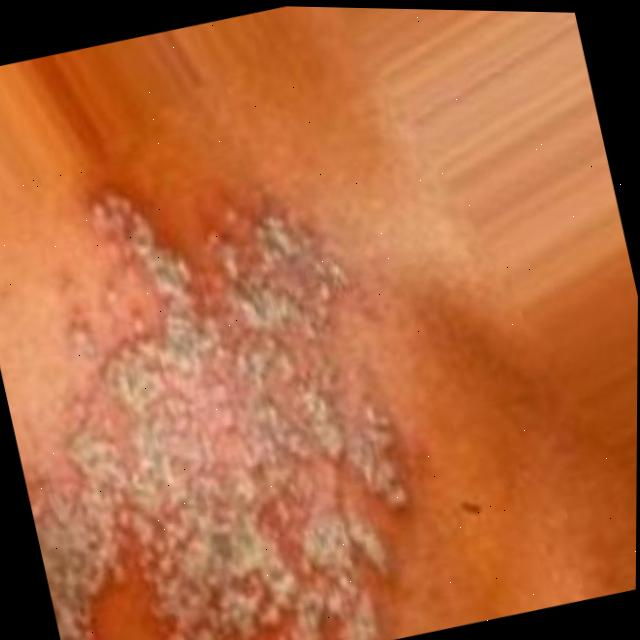Shingles: (0, 156, 434, 640)
